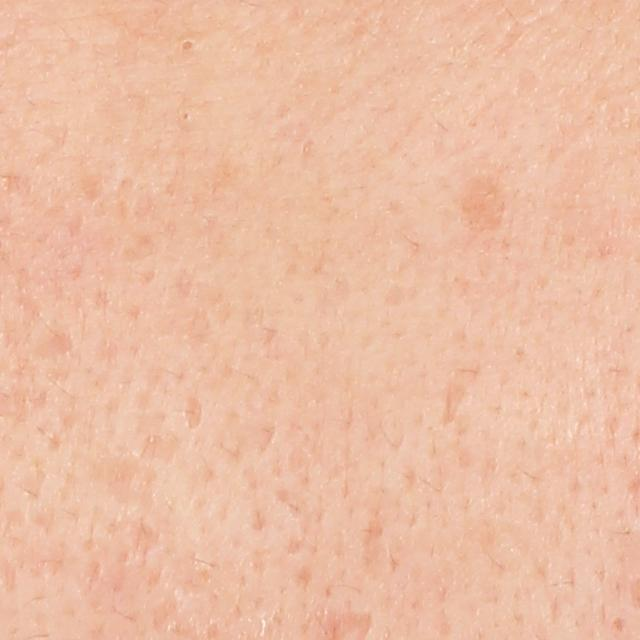atrophic_scar: (87, 452, 145, 507), (126, 516, 164, 566), (25, 329, 73, 359), (445, 376, 467, 430), (181, 388, 204, 432)
comedo: (175, 35, 201, 54), (176, 108, 194, 122)
